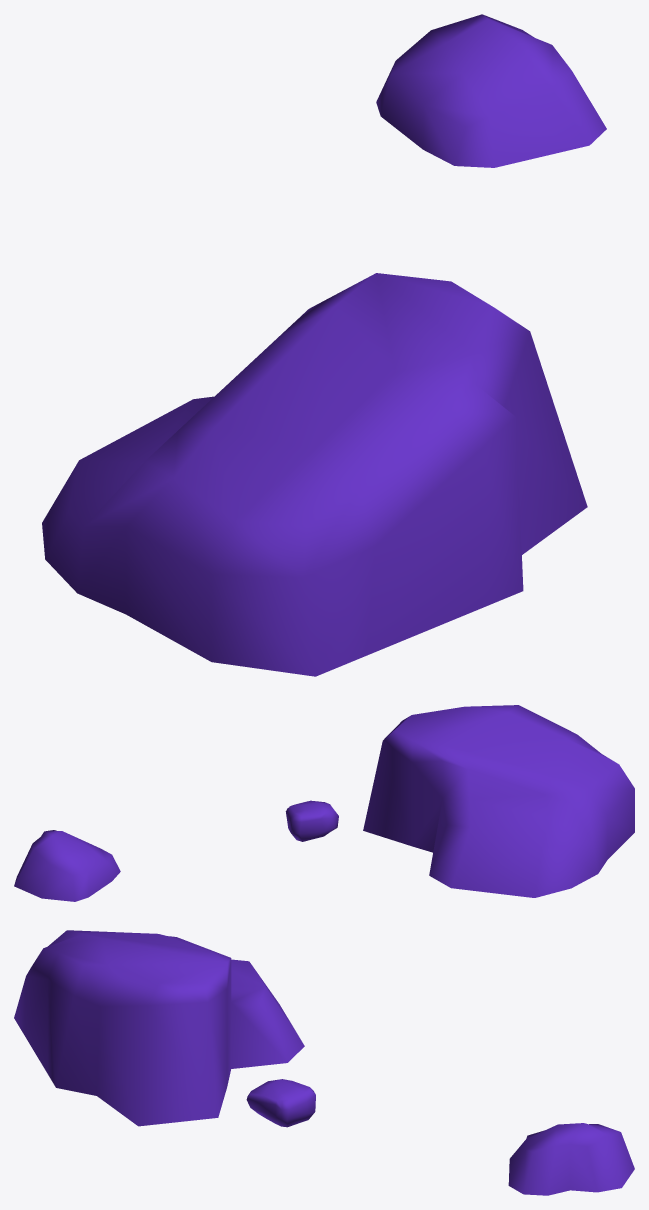
Rendered from Rocks.fbx.
3 renders of one model, top to bottom at view 1: azimuth 30°, elevation 25°; view 2: azimuth 150°, elevation 25°; view 3: azimuth 270°, elevation 25°, orthographic. The views are drawn at different scales.
Parts seen in each view (by area): view 1: Big_ol_Rahk, Rahk; view 2: Big_ol_Rahk, Rahk, Smol_Rahk; view 3: Big_ol_Rahk, Rahk, Smol_Rahk.
Boxes of the visible parts, x1,y1,x2,y2 form: Big_ol_Rahk: (42, 273, 587, 676); Rahk: (376, 14, 606, 167); Big_ol_Rahk: (363, 705, 634, 897); Rahk: (14, 830, 120, 901); Smol_Rahk: (285, 800, 338, 841); Big_ol_Rahk: (14, 930, 304, 1126); Rahk: (508, 1123, 634, 1195); Smol_Rahk: (246, 1079, 315, 1127).
Size of the model in its own units: 3.27 by 0.806 by 3.64.
